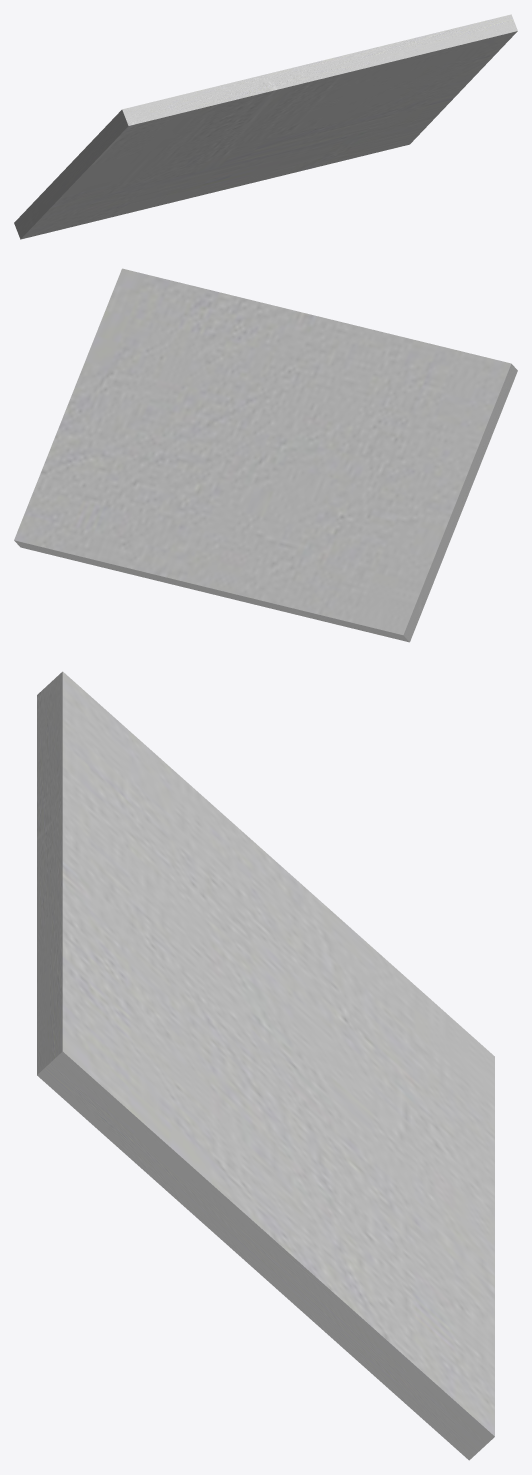
Rendered from Computadora1.obj.
3 renders of one model, top to bottom at view 1: azimuth 30°, elevation 25°; view 2: azimuth 150°, elevation 25°; view 3: azimuth 270°, elevation 25°, orthographic. The views are drawn at different scales.
Visible parts, largest first — view 1: Computadora1:pCube4; view 2: Computadora1:pCube4; view 3: Computadora1:pCube4.
Part boxes in pixels (x1=…): Computadora1:pCube4: x1=14, y1=14, x2=517, y2=239; Computadora1:pCube4: x1=14, y1=268, x2=517, y2=642; Computadora1:pCube4: x1=37, y1=671, x2=494, y2=1460.
Bounding box in the file's own units: 1.11 × 0.5571 × 0.5654.
